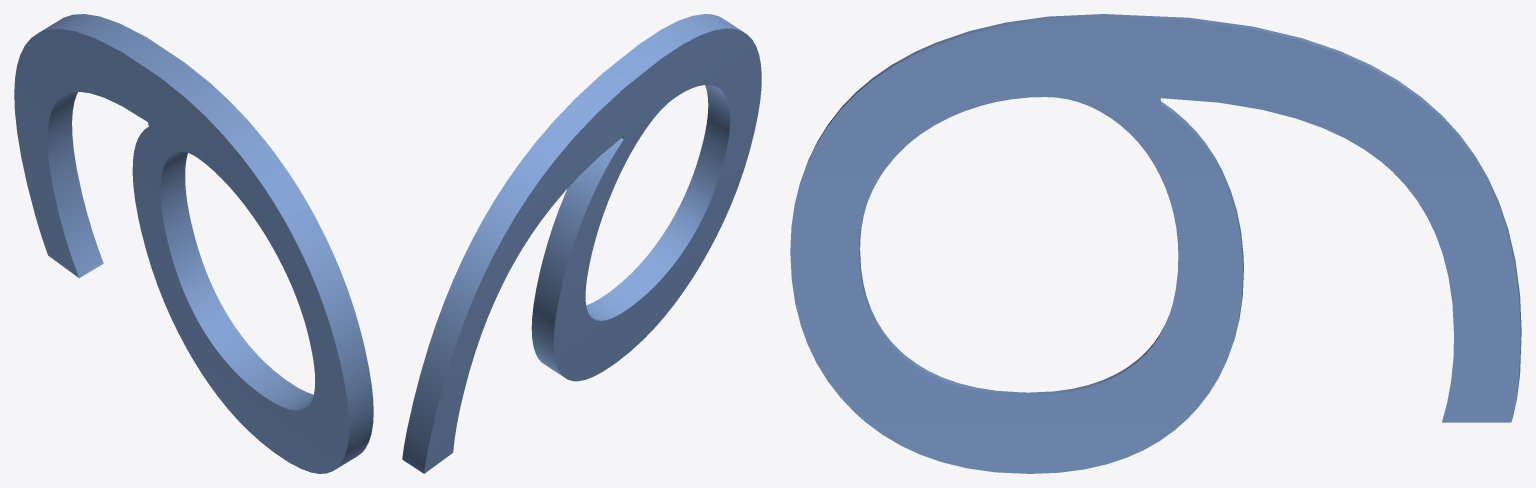
Rendered from New_Number_9.gltf.
3 renders of one model, left to right at view 1: azimuth 30°, elevation 25°; view 2: azimuth 150°, elevation 25°; view 3: azimuth 270°, elevation 25°, orthographic. The views are drawn at different scales.
Visible parts, largest first — view 1: Part 306; view 2: Part 306; view 3: Part 306.
Part boxes in pixels (bbox=[...]): Part 306: bbox=[14, 14, 373, 473]; Part 306: bbox=[402, 14, 761, 473]; Part 306: bbox=[790, 14, 1521, 473].
Bounding box in the file's own units: 0.00105 × 0.00362 × 0.00567.
